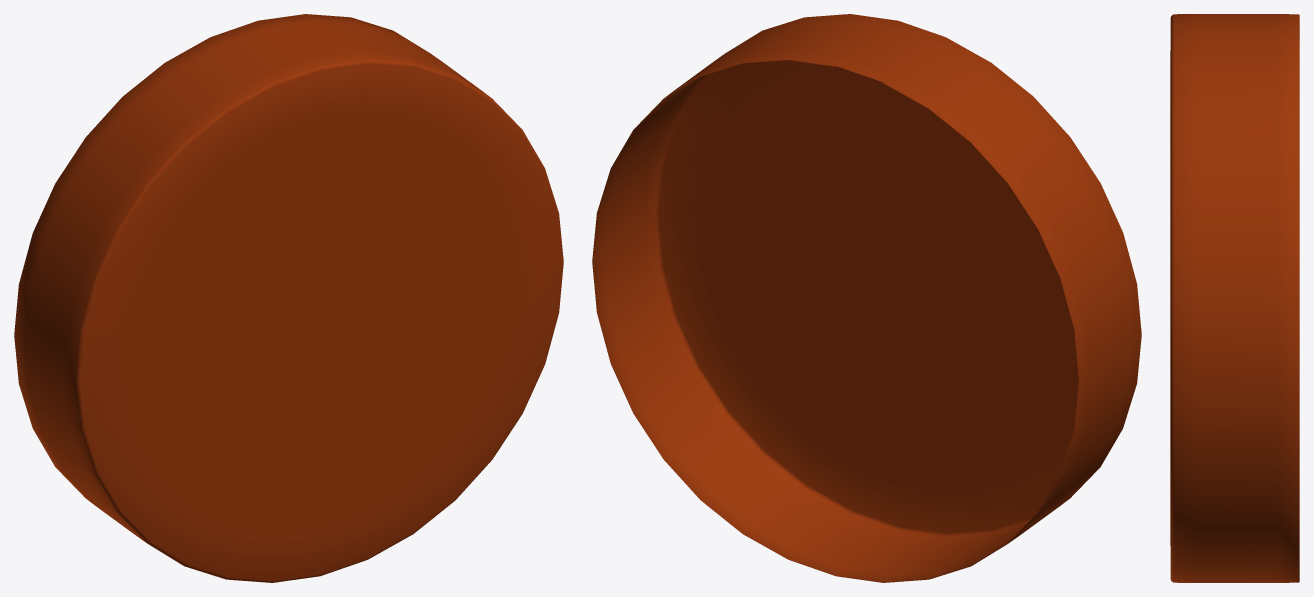
File: cream_jar_1.obj
The picture shows the model from 3 angles, left to right: view 1: azimuth 30°, elevation 25°; view 2: azimuth 150°, elevation 25°; view 3: azimuth 270°, elevation 25°; orthographic projection.
Size of the model in its own units: 0.0668 by 0.0668 by 0.0151.
